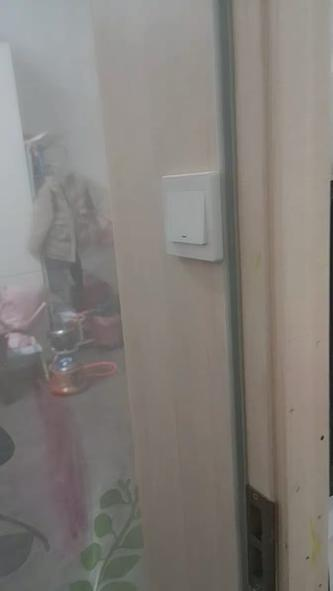switch: (158, 187, 218, 253)
